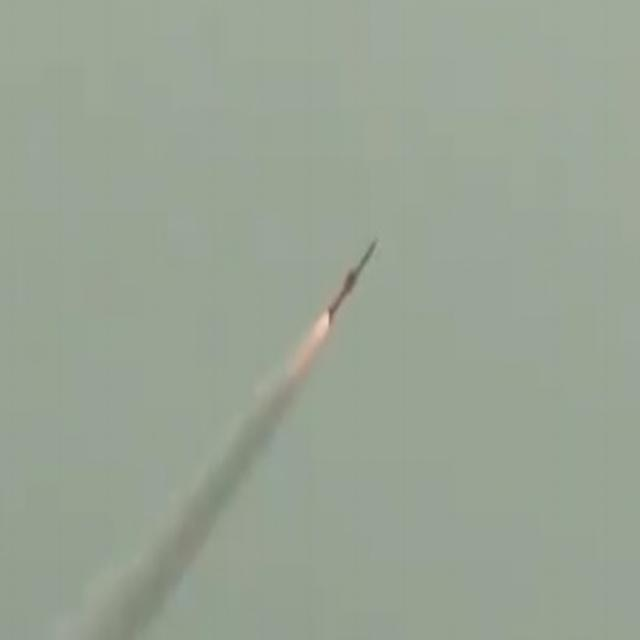Missile: (318, 229, 381, 339)
